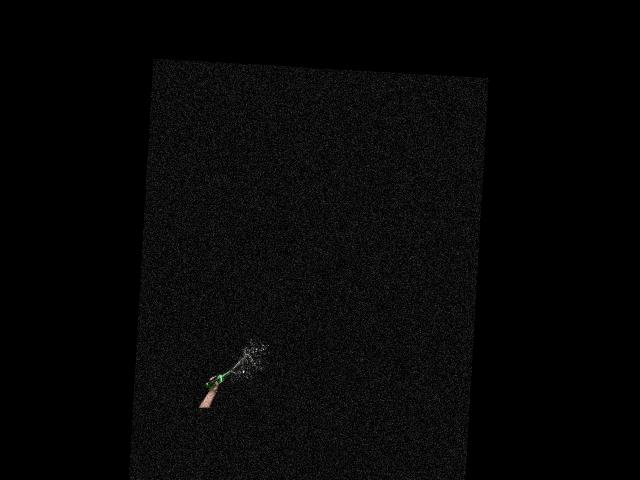beer: (204, 368, 232, 391)
